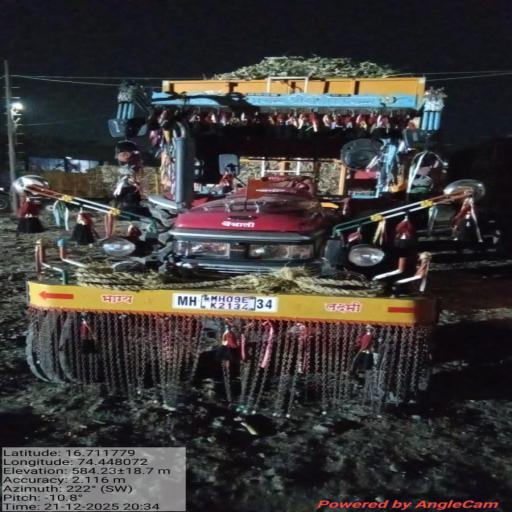number_plate: (157, 286, 309, 324)
